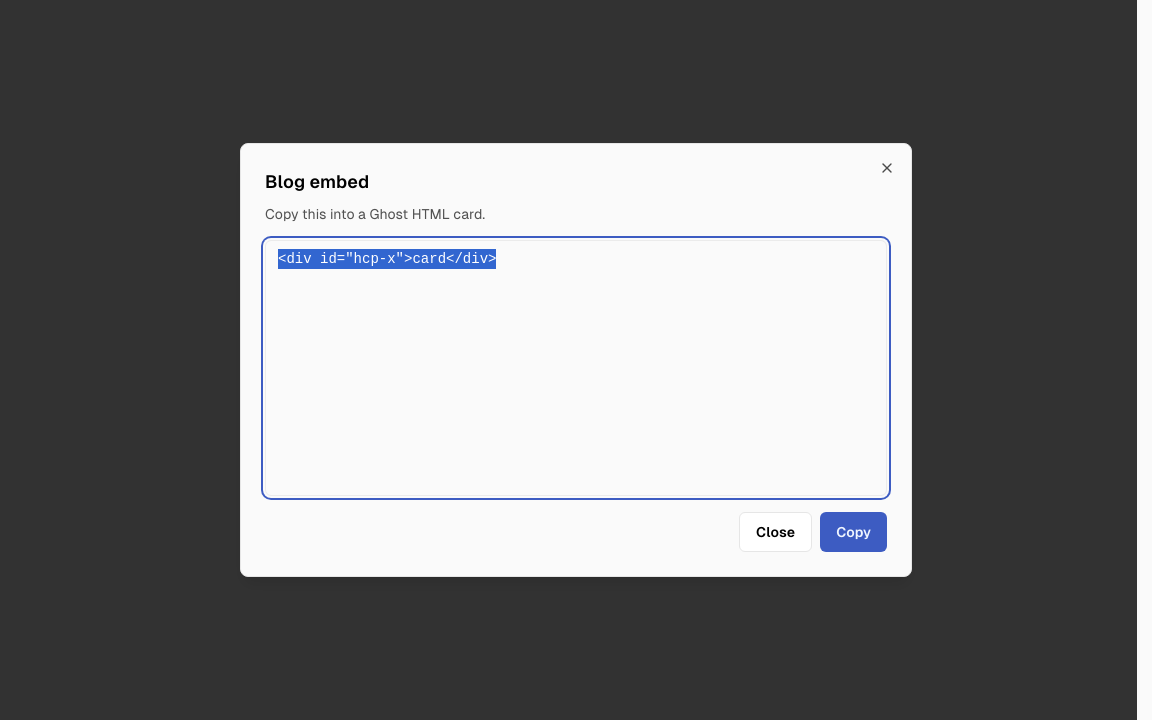
PassageEmbedDialog › asks for a manual copy, leaving the text selected, when both routes fail
This screenshot has width=1152, height=720.
Click the button "Copy" at coordinates (854, 532), box [820,512,887,552]
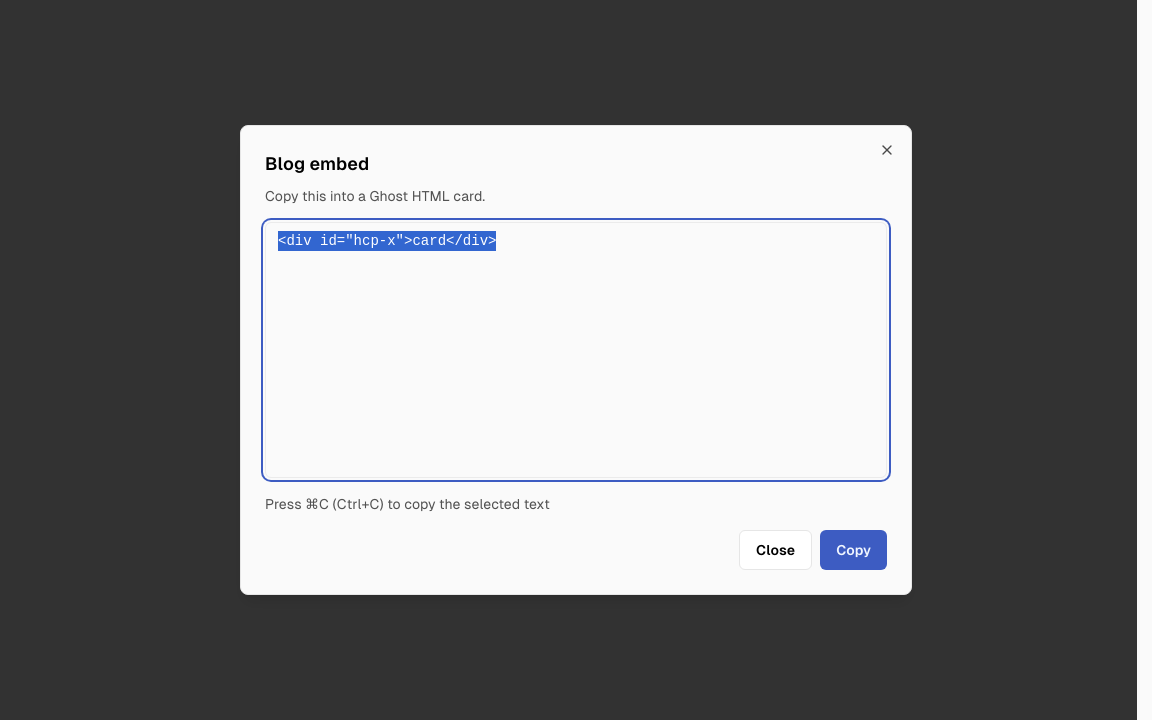
Expected: the message reads "Press ⌘C (Ctrl+C) to copy the selected text", [265,496,550,512]
